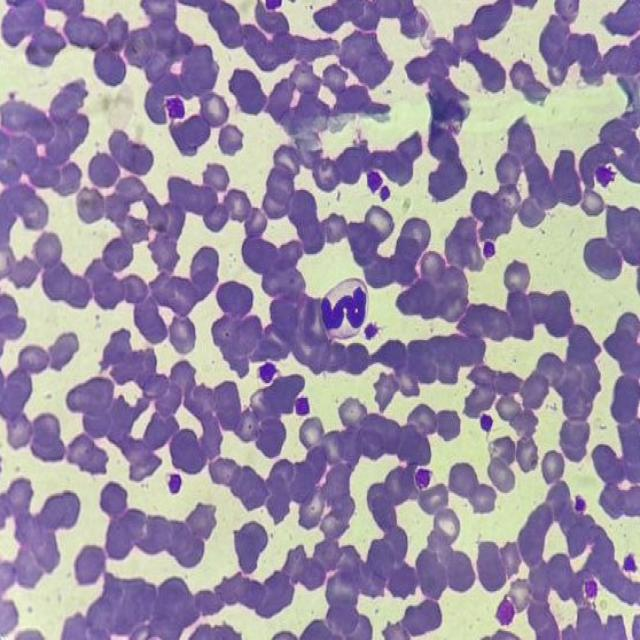Neutrofilo: (318, 278, 371, 340)
